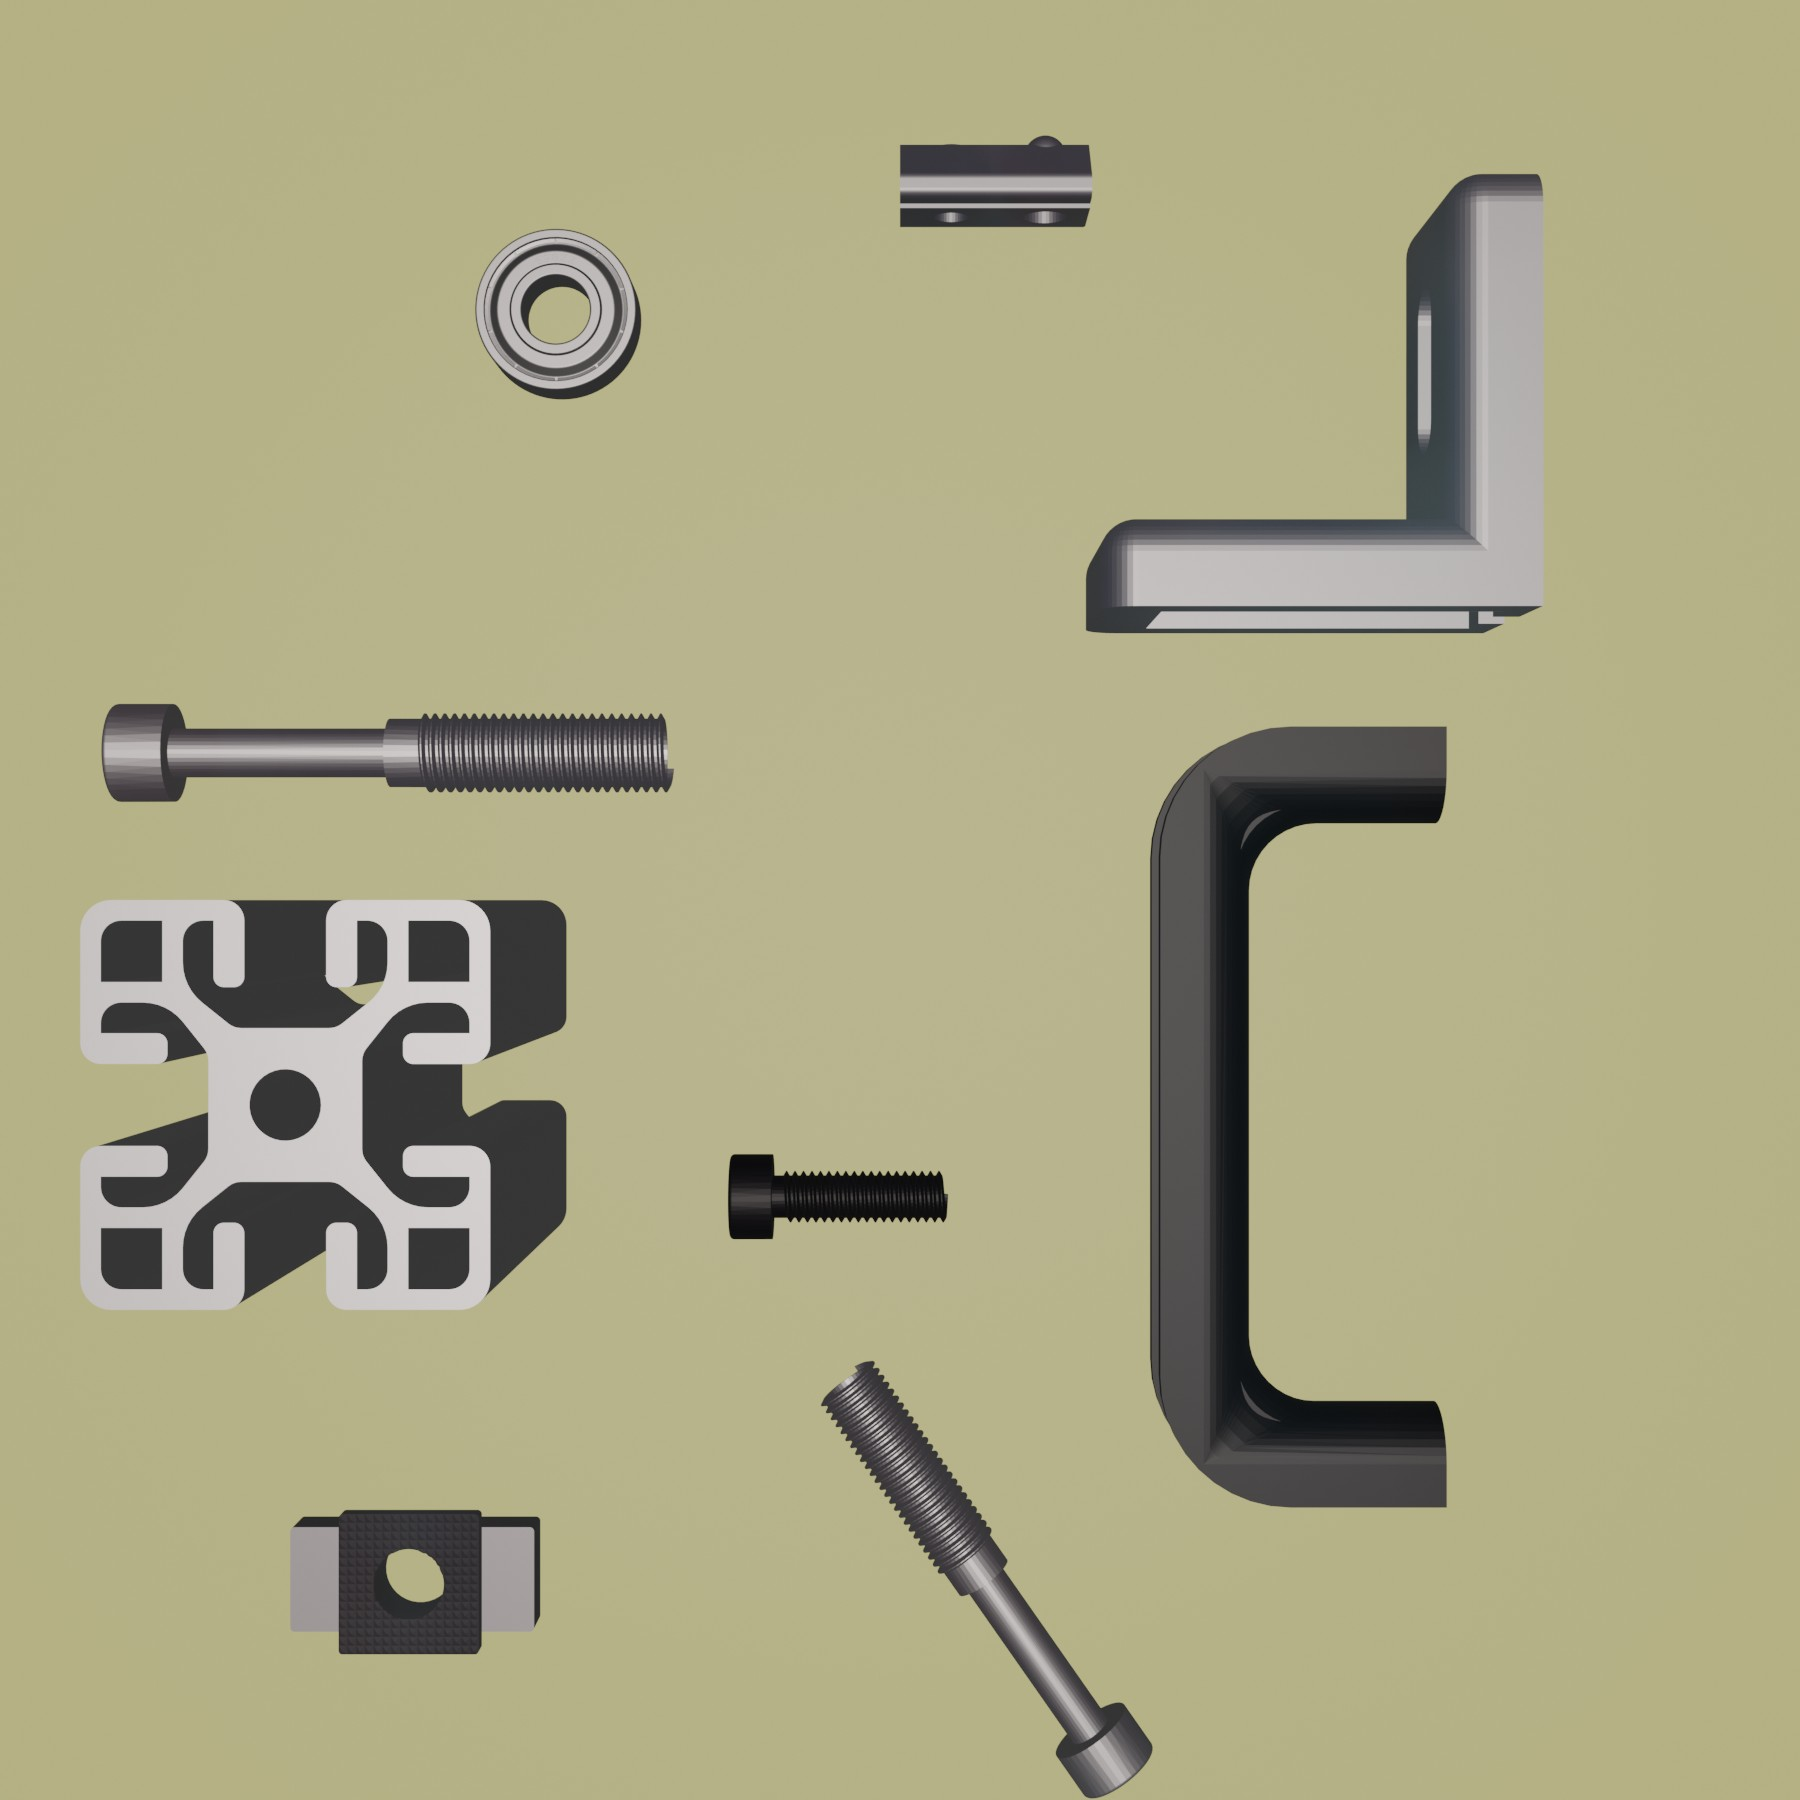Aluminium Extension: (76, 893, 570, 1319)
Ball Bearing: (471, 224, 643, 401)
Multiwinkel: (1080, 168, 1551, 641)
Pull Handle: (1142, 719, 1451, 1516)
Shoulder Socket Head Cap Screw: (818, 1358, 1154, 1800), (96, 696, 676, 804)
Socket Head Cap Screw: (724, 1147, 949, 1243)
T Nut Square: (284, 1502, 547, 1658)
T Spring Nut: (893, 130, 1096, 236)
